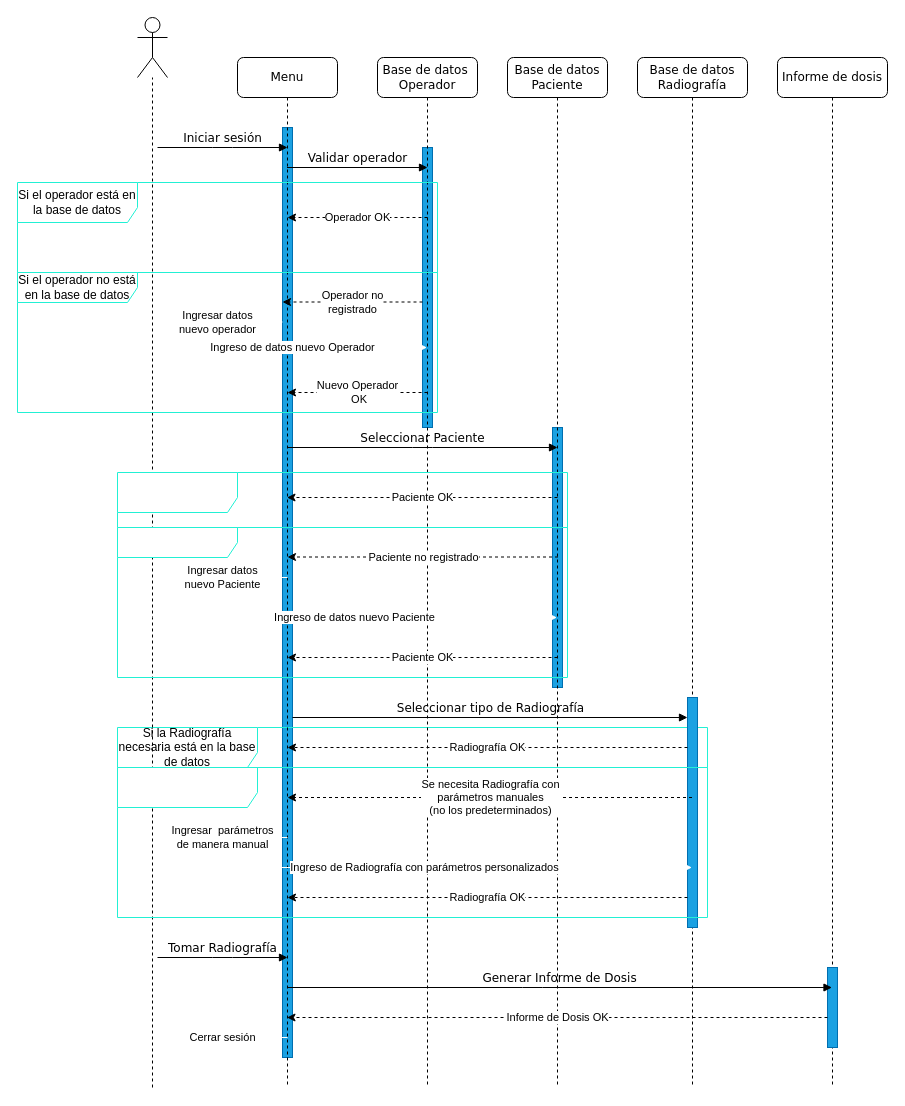
This 905x1106 diagram has some shape labels left out. Here are the shapes that lost their labels. From the top down, the centre of each, then its label:
the point at 152,47: Operador
the point at 342,500: Si el Paciente está en la base de datos
the point at 342,602: Si el Paciente no está en la base de datos
the point at 412,842: Si la Radiografía necesaria no está en la base de datos
